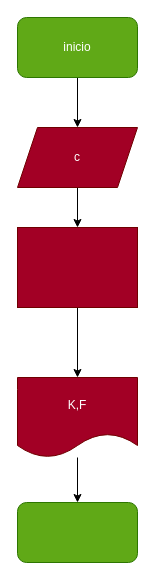
Image size: 155x580. Some labels were removed from this diagram. Here are the shapes that lost their labels. From the top down, the box of each, then its label:
(16, 226, 138, 308): K = ºC + 273.15 . ºF = ºC x 1.8 + 32 .
(16, 502, 138, 562): fin
